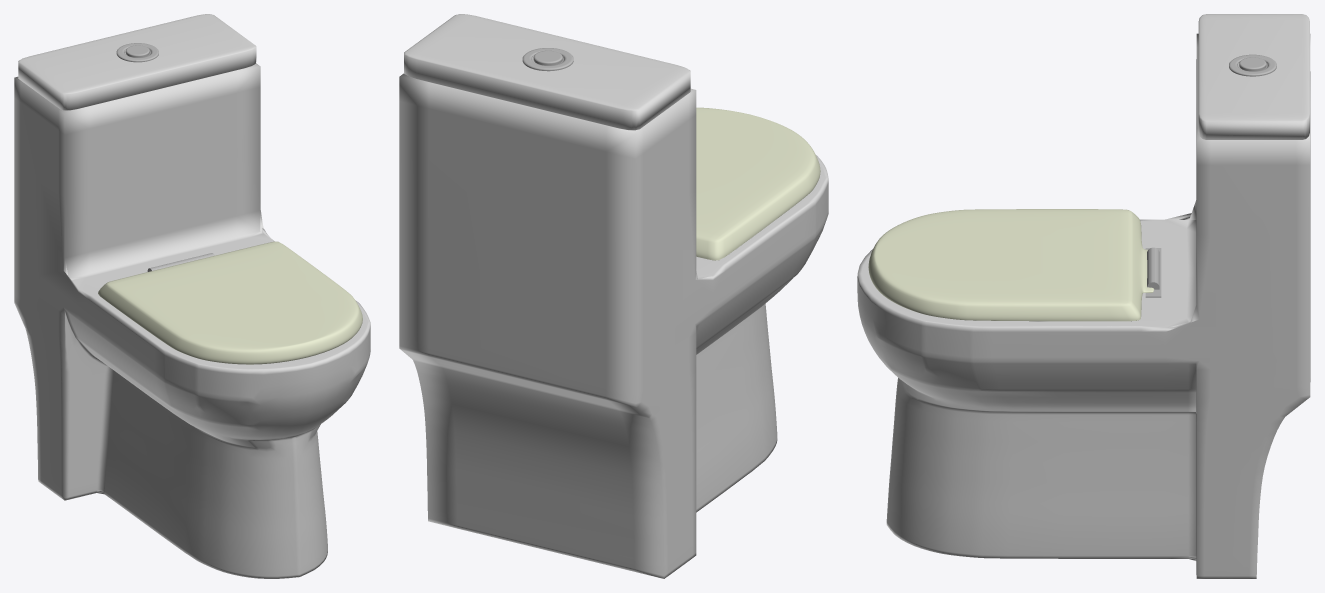
Rendered from Privada.fbx.
3 renders of one model, left to right at view 1: azimuth 30°, elevation 25°; view 2: azimuth 150°, elevation 25°; view 3: azimuth 270°, elevation 25°, orthographic. The views are drawn at different scales.
Visible parts, largest first — view 1: Cube, Plane, Cube.001, Circle; view 2: Cube, Cube.001, Plane, Circle; view 3: Cube, Plane, Cube.001, Circle, Cube.002.
Boxes of the visible parts, x1,y1,x2,y2 form: Cube: [14, 63, 370, 578]; Plane: [98, 241, 362, 364]; Cube.001: [18, 14, 256, 110]; Circle: [116, 43, 158, 62]; Cube: [399, 73, 828, 578]; Cube.001: [404, 14, 690, 130]; Plane: [696, 107, 820, 260]; Circle: [522, 48, 573, 71]; Cube: [857, 33, 1310, 578]; Plane: [868, 209, 1154, 321]; Cube.001: [1198, 14, 1309, 139]; Circle: [1229, 54, 1276, 76]; Cube.002: [1145, 247, 1161, 297].
Bounding box in the file's own units: 150 × 298 × 265.
